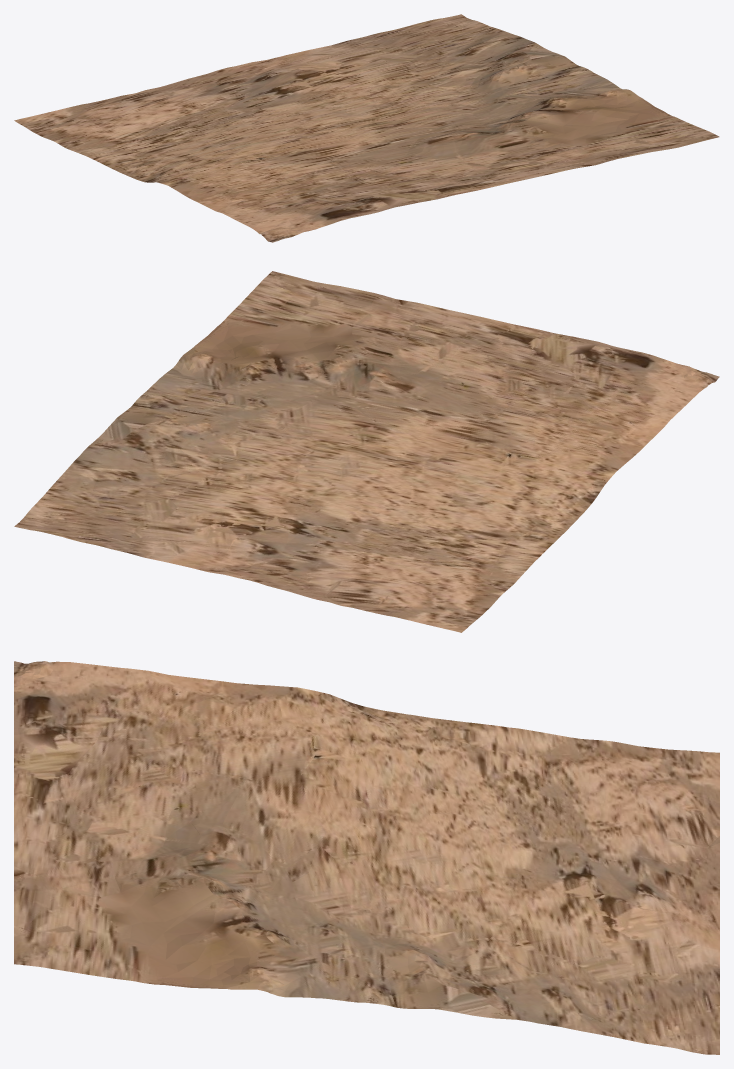
3 views of the same model, one above another, from view 1: azimuth 30°, elevation 25°; view 2: azimuth 150°, elevation 25°; view 3: azimuth 270°, elevation 25° (orthographic). The views are drawn at different scales.
Bounding box in the file's own units: 4.18 × 0.6721 × 4.18.
Materials: 3 (3 with a texture image).
